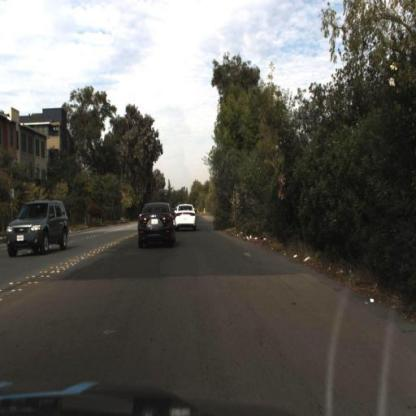car: (7, 200, 71, 261), (134, 199, 177, 258), (172, 195, 203, 238), (165, 218, 178, 242)
